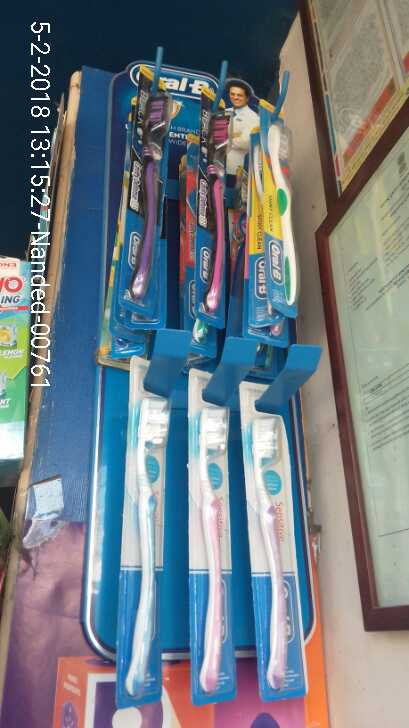oralb: (241, 395, 312, 696), (115, 375, 181, 695), (178, 396, 246, 699), (122, 84, 169, 305), (262, 112, 311, 319), (198, 98, 233, 321)
